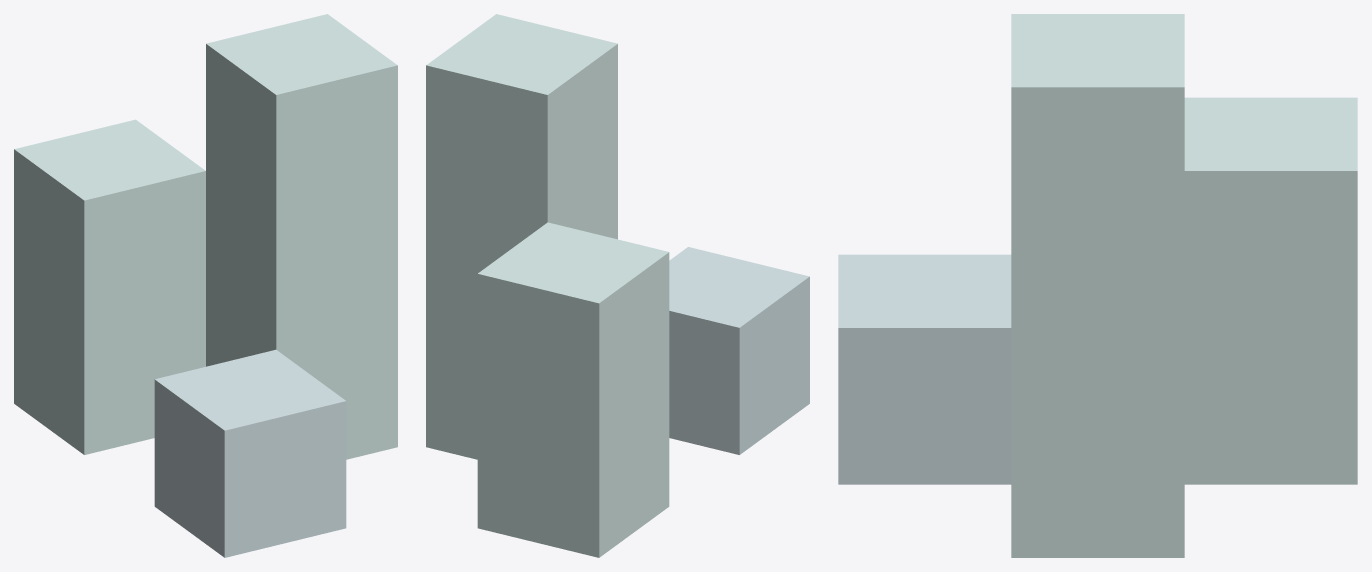
File: tile-34.obj
3 views of the same model, side by side, from view 1: azimuth 30°, elevation 25°; view 2: azimuth 150°, elevation 25°; view 3: azimuth 270°, elevation 25° (orthographic). The views are drawn at different scales.
Size of the model in its own units: 0.2 by 0.3 by 0.3.
Materials: 1 (1 with a texture image).
